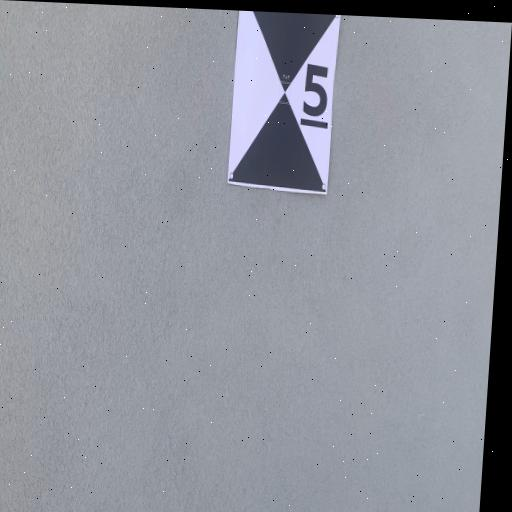target5: (228, 11, 337, 185)
